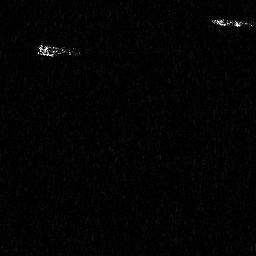ship: (35, 42, 83, 59), (211, 16, 254, 30)
